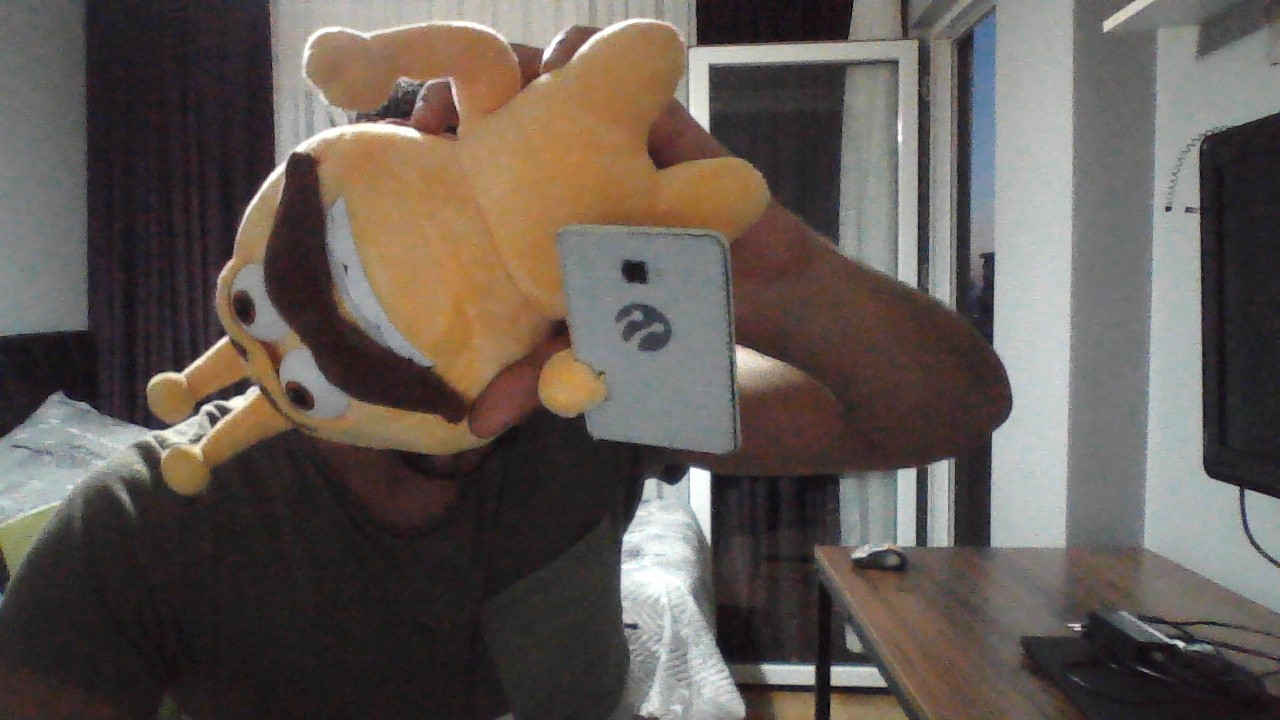turkcell: (610, 299, 675, 360)
